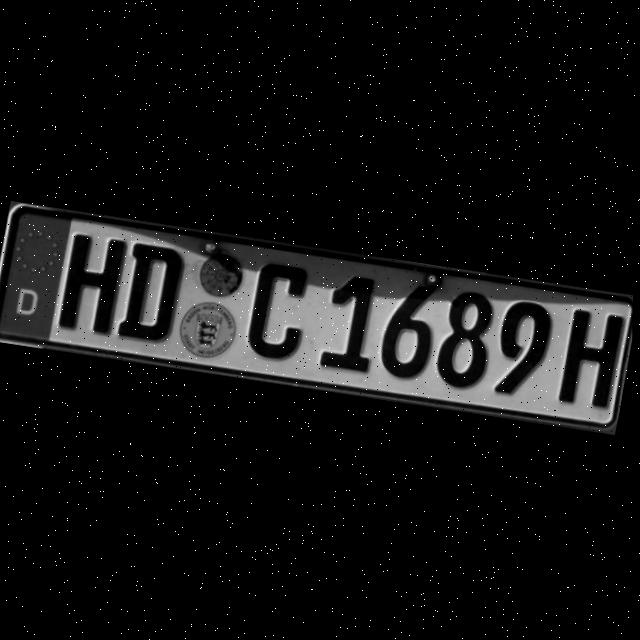license-plates: (0, 204, 633, 434)
